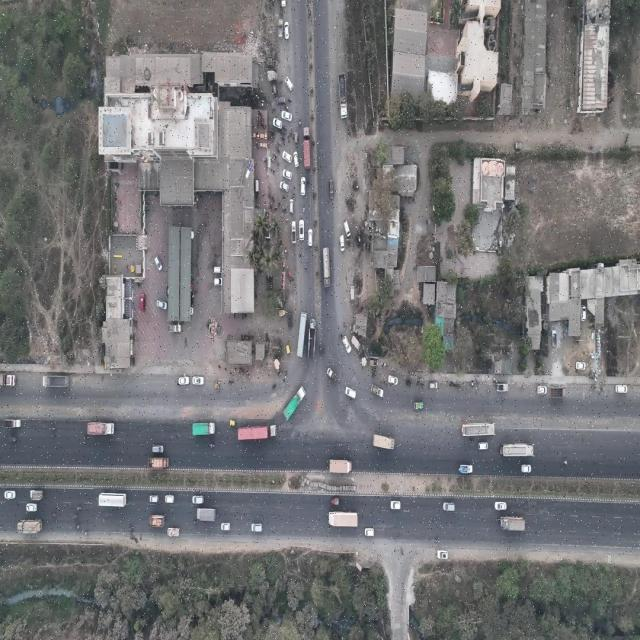3W: (330, 498, 340, 505), (8, 436, 18, 443), (229, 419, 237, 427), (278, 311, 287, 318), (289, 317, 293, 331), (287, 310, 293, 319), (287, 343, 290, 355)
Bus: (296, 311, 307, 361), (499, 443, 535, 458), (461, 423, 496, 437), (98, 492, 127, 508)
Cars: (343, 335, 352, 355), (344, 386, 356, 399), (280, 110, 292, 122), (178, 374, 190, 385), (192, 375, 204, 386), (156, 299, 168, 310), (272, 118, 283, 130), (329, 179, 335, 201), (615, 384, 628, 394), (282, 168, 292, 181), (286, 76, 294, 92), (299, 220, 305, 241), (26, 502, 37, 513), (4, 490, 16, 500), (193, 495, 205, 505), (154, 256, 162, 271), (443, 502, 455, 512), (282, 152, 292, 164), (343, 222, 351, 237), (388, 374, 398, 386), (279, 180, 289, 192), (494, 502, 507, 511), (140, 294, 146, 313), (551, 329, 557, 348), (252, 522, 262, 533), (437, 550, 448, 560), (390, 500, 401, 510), (220, 522, 232, 531), (152, 445, 164, 454), (284, 22, 290, 40), (580, 305, 586, 322), (575, 362, 586, 371), (293, 152, 299, 168), (149, 494, 159, 503), (521, 464, 531, 473), (364, 527, 374, 536), (308, 229, 313, 247), (537, 386, 547, 394), (350, 286, 355, 302), (428, 381, 438, 389), (340, 234, 344, 253), (289, 199, 294, 214), (166, 495, 175, 503), (478, 443, 488, 450), (276, 97, 286, 104)
LCV: (371, 382, 384, 398), (326, 367, 338, 384), (167, 526, 181, 538), (5, 420, 21, 430), (30, 489, 43, 501), (291, 221, 297, 244), (496, 383, 509, 393), (167, 324, 181, 333), (460, 465, 473, 474), (267, 71, 278, 81), (278, 20, 283, 39), (214, 266, 223, 274), (414, 403, 423, 410), (214, 278, 222, 285)
M2W: (400, 547, 404, 557), (49, 427, 56, 431), (302, 205, 305, 214), (299, 251, 302, 260), (72, 515, 78, 519), (51, 513, 57, 517), (75, 525, 81, 529), (83, 532, 89, 536), (129, 527, 135, 531), (83, 436, 89, 440), (209, 444, 215, 448), (434, 540, 440, 544), (307, 179, 310, 187), (193, 521, 198, 525), (563, 460, 568, 464), (305, 263, 307, 272), (299, 120, 301, 129), (77, 506, 81, 510), (469, 439, 473, 443)
MAV: (237, 426, 278, 441)
Truck: (282, 384, 306, 423), (328, 511, 358, 528), (337, 73, 347, 120), (500, 516, 526, 532), (372, 434, 395, 451), (42, 374, 69, 388), (322, 247, 331, 289), (87, 423, 114, 436), (16, 521, 42, 534), (308, 318, 316, 359), (329, 460, 352, 474), (303, 126, 310, 171), (193, 422, 216, 435), (148, 512, 165, 529), (148, 456, 170, 469), (196, 508, 216, 522), (550, 387, 566, 398)
